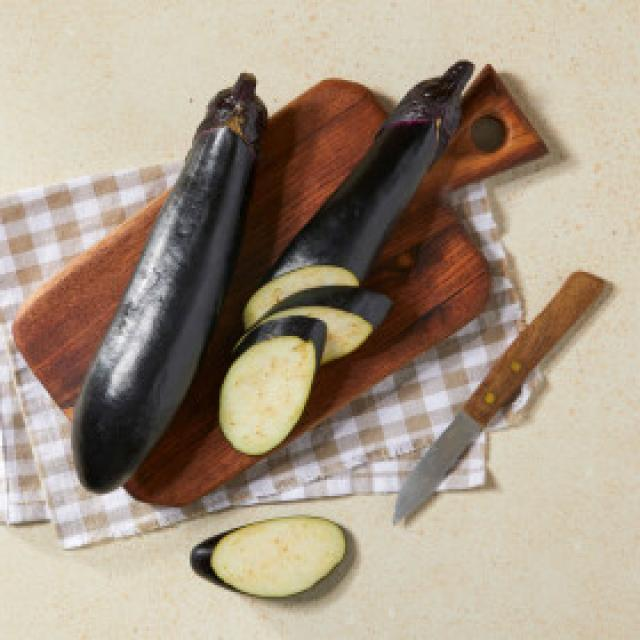eggplant: (184, 46, 506, 454), (59, 71, 270, 493)
